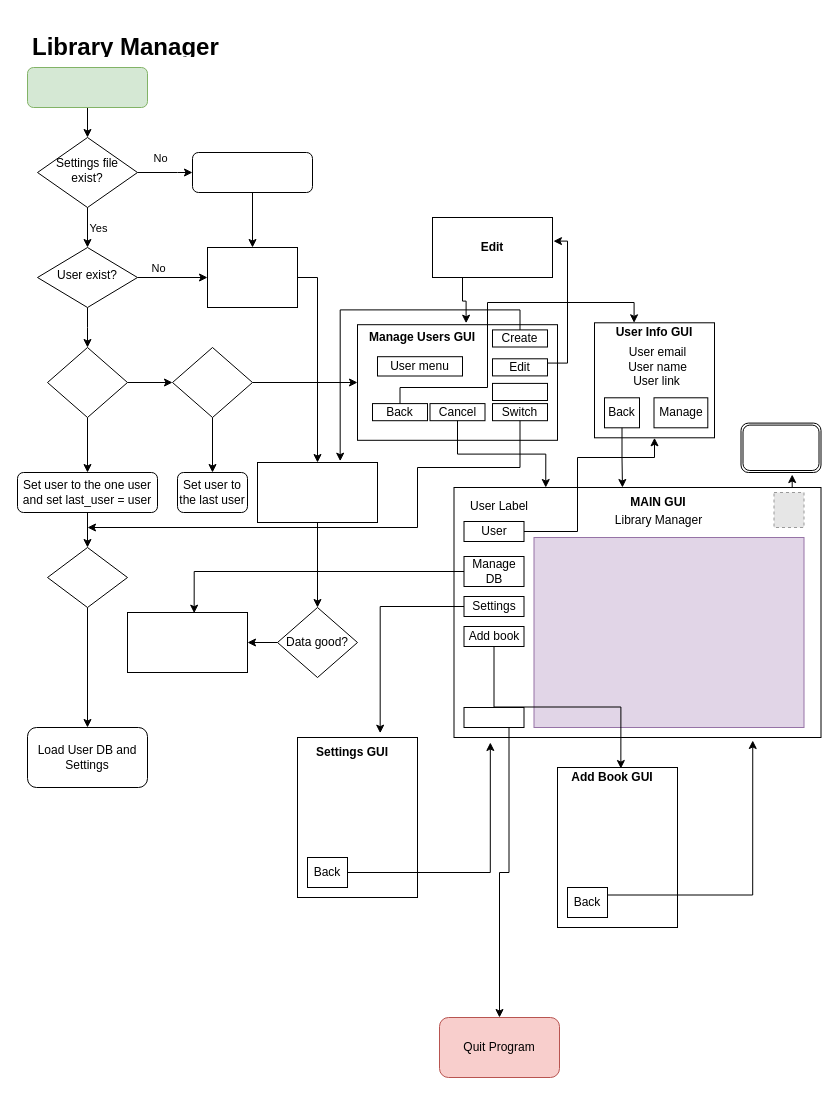
Image size: 839x1095. Some labels were removed from this diagram. Grey dashed boxes stand in for pictures. Here are the shapes that lost their labels. From the top down, the centre of each, then its label:
At point 87,87: "START".
At point 252,172: "Write default settings to settings file".
At point 252,277: "Welcome to Library Messagebox".
At point 87,382: "One user".
At point 212,382: "Last user exist?".
At point 520,391: "Delete".
At point 780,447: "Open GoodReads homepage".
At point 317,492: "Create User GUI".
At point 87,577: "User has DB?".
At point 187,642: "Manage DB GUI".
At point 493,717: "Quit".
